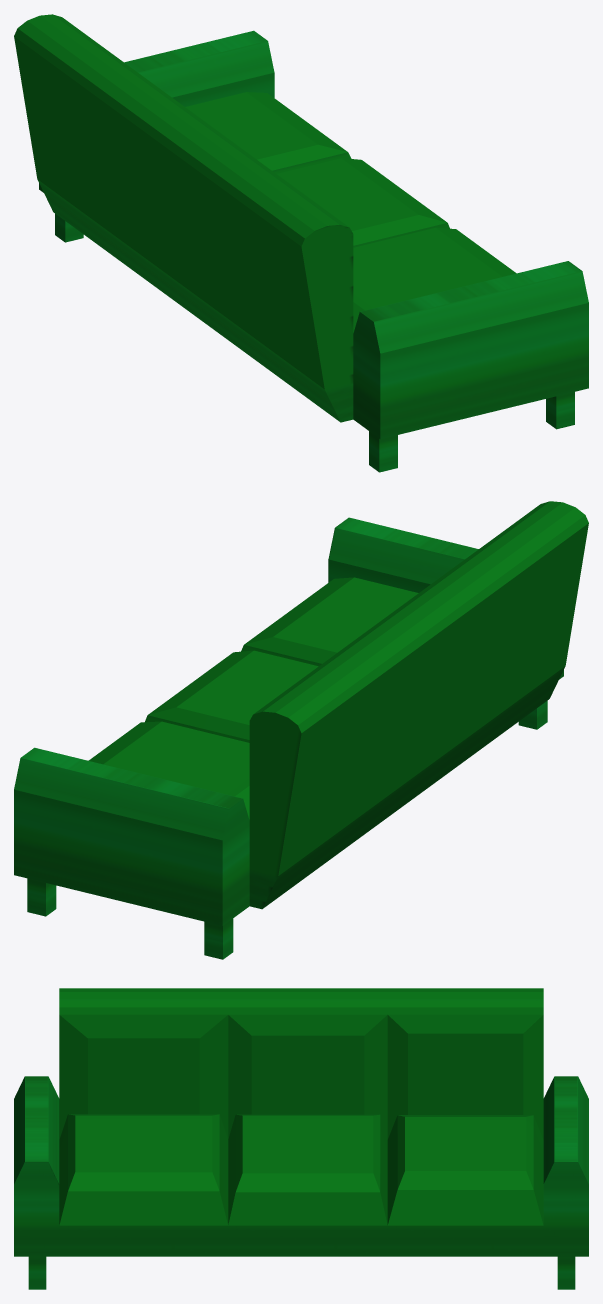
File: sofa2.fbx
3 views of the same model, one above another, from view 1: azimuth 30°, elevation 25°; view 2: azimuth 150°, elevation 25°; view 3: azimuth 270°, elevation 25° (orthographic). The views are drawn at different scales.
Visible parts, largest first — view 1: Cube.002; view 2: Cube.002; view 3: Cube.002.
Boxes of the visible parts, x1=… form: Cube.002: x1=14, y1=14, x2=588, y2=472; Cube.002: x1=14, y1=501, x2=588, y2=959; Cube.002: x1=14, y1=988, x2=588, y2=1289.
Bounding box in the file's own units: 118 × 105 × 269.
